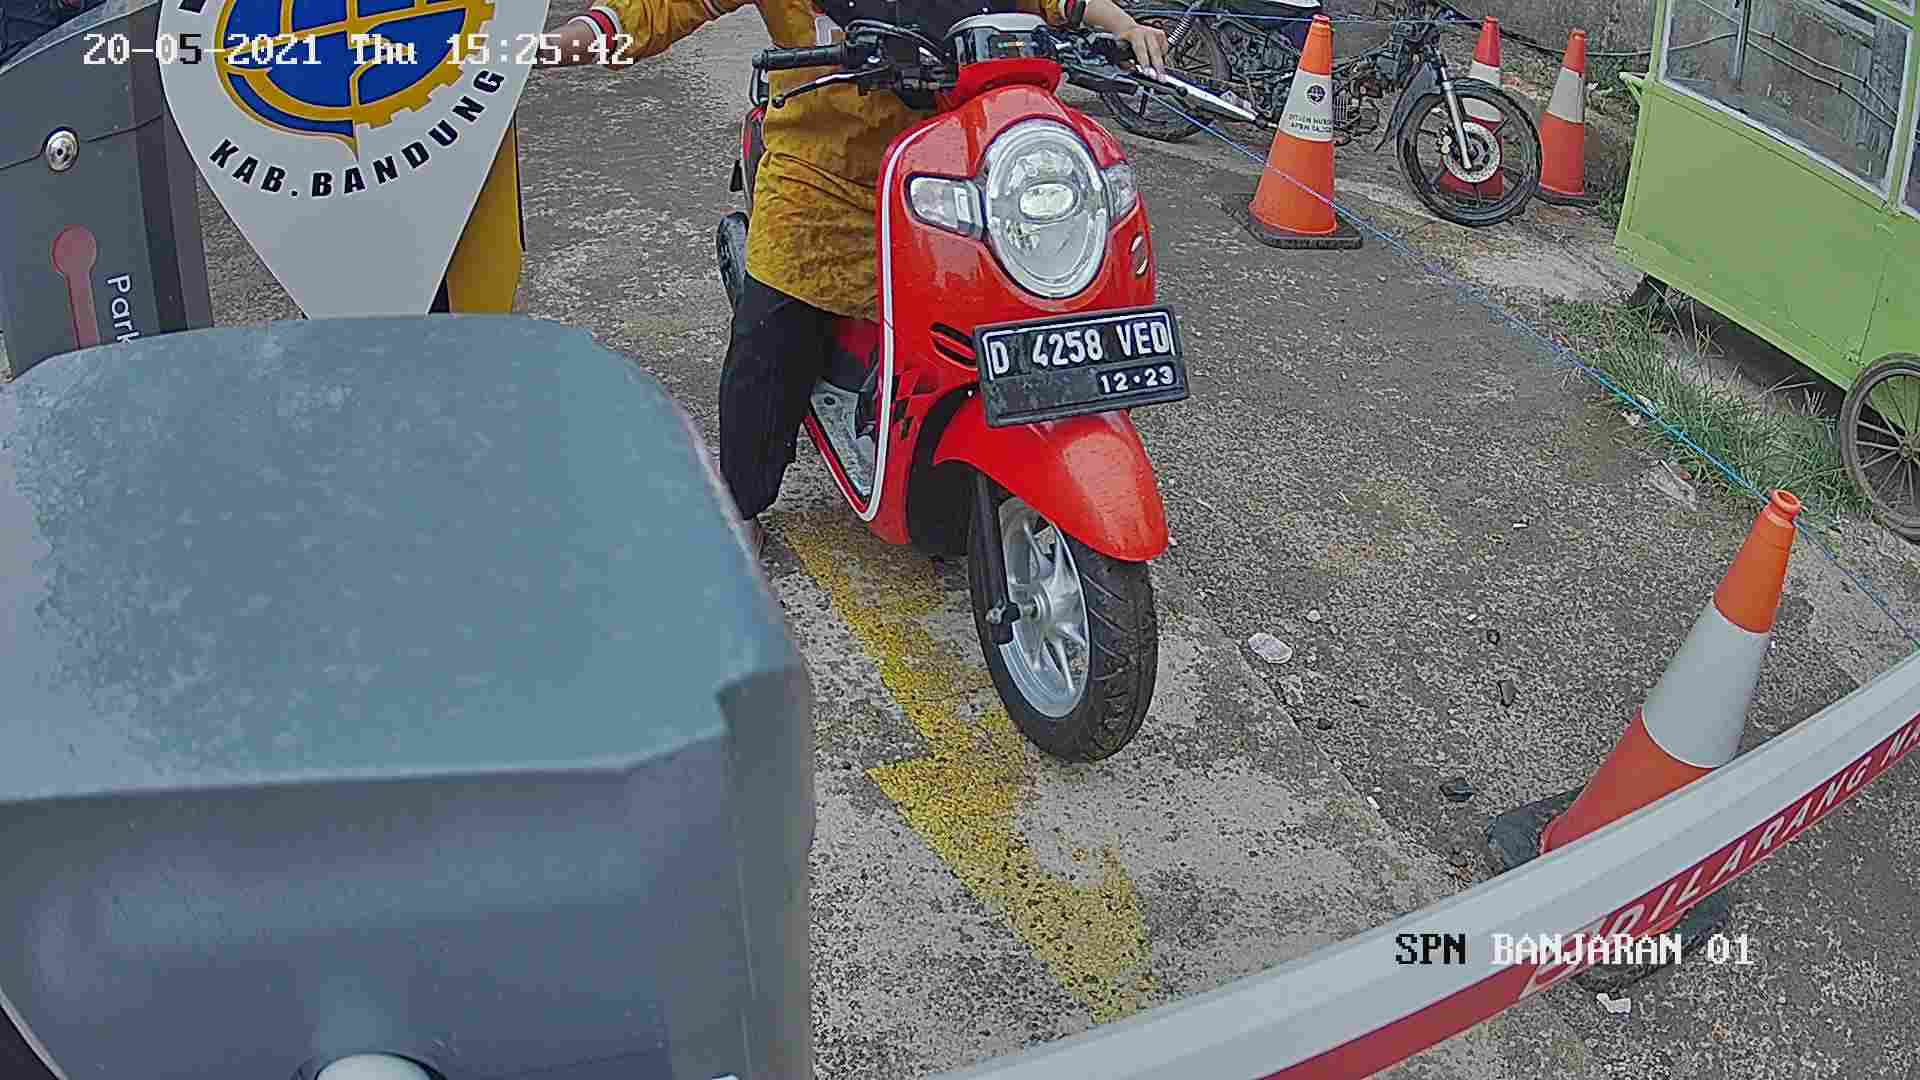motor: (708, 50, 1208, 771)
